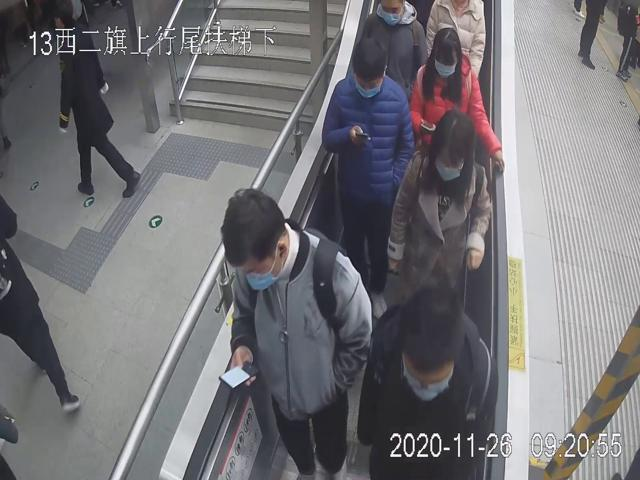person: (218, 185, 374, 480), (357, 282, 498, 480), (321, 32, 412, 297), (382, 110, 491, 316), (409, 26, 505, 177)
